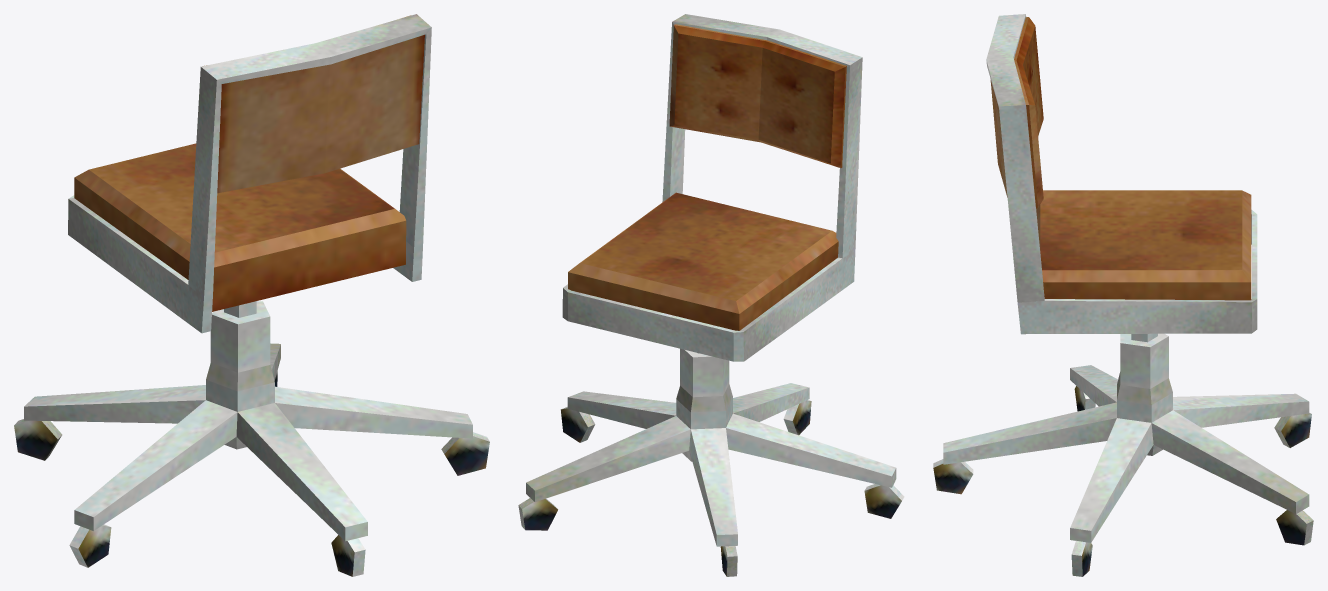
File: office_chair_orange.obj
3 views of the same model, side by side, from view 1: azimuth 30°, elevation 25°; view 2: azimuth 150°, elevation 25°; view 3: azimuth 270°, elevation 25° (orthographic). The views are drawn at different scales.
Parts seen in each view (by area): view 1: office_chair_orange; view 2: office_chair_orange; view 3: office_chair_orange.
Boxes of the visible parts, <box> form: office_chair_orange: <box>14,14,489,576</box>; office_chair_orange: <box>518,14,904,576</box>; office_chair_orange: <box>933,14,1313,576</box>.
Size of the model in its own units: 0.94 by 1.09 by 0.8617.
